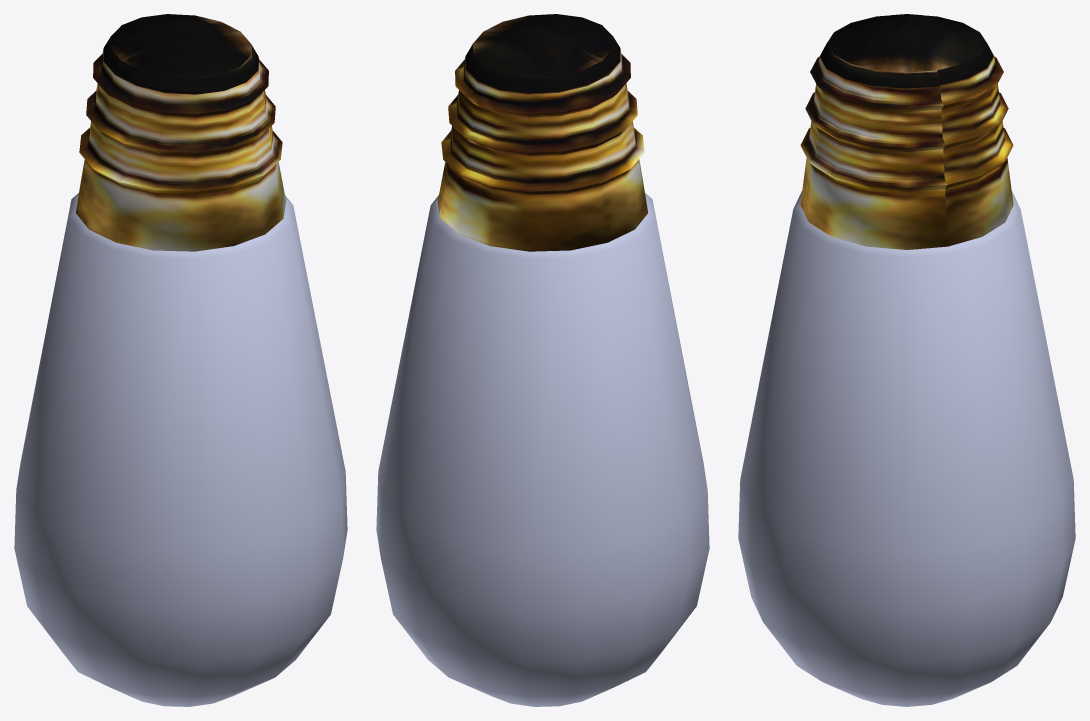
The model's file is SM_LighBulb.FBX.
3 views of the same model, side by side, from view 1: azimuth 30°, elevation 25°; view 2: azimuth 150°, elevation 25°; view 3: azimuth 270°, elevation 25° (orthographic).
Parts seen in each view (by area): view 1: SM_LighBulb; view 2: SM_LighBulb; view 3: SM_LighBulb.
Boxes of the visible parts, x1,y1,x2,y2 form: SM_LighBulb: (14, 14, 347, 706); SM_LighBulb: (376, 14, 709, 706); SM_LighBulb: (738, 14, 1075, 706).
Bounding box in the file's own units: 7.79 × 7.79 × 16.95.
